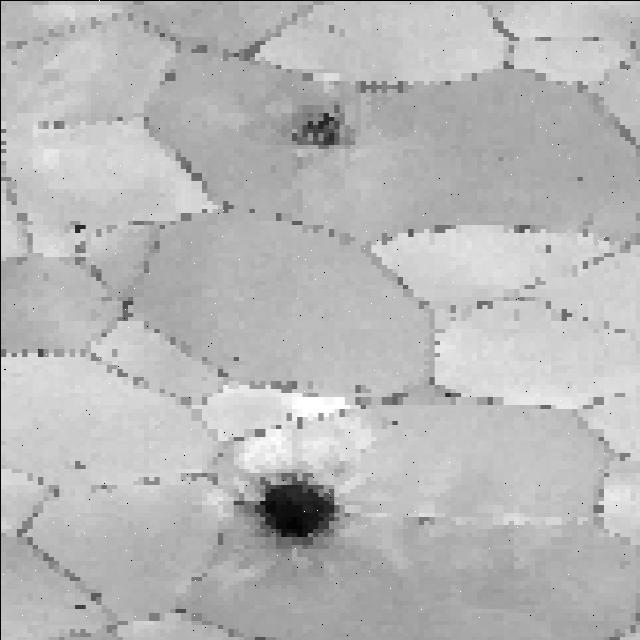good_void: (227, 468, 352, 555), (273, 95, 375, 166), (159, 70, 181, 84), (69, 221, 86, 235), (70, 460, 86, 474), (539, 241, 556, 254), (324, 19, 336, 37)
